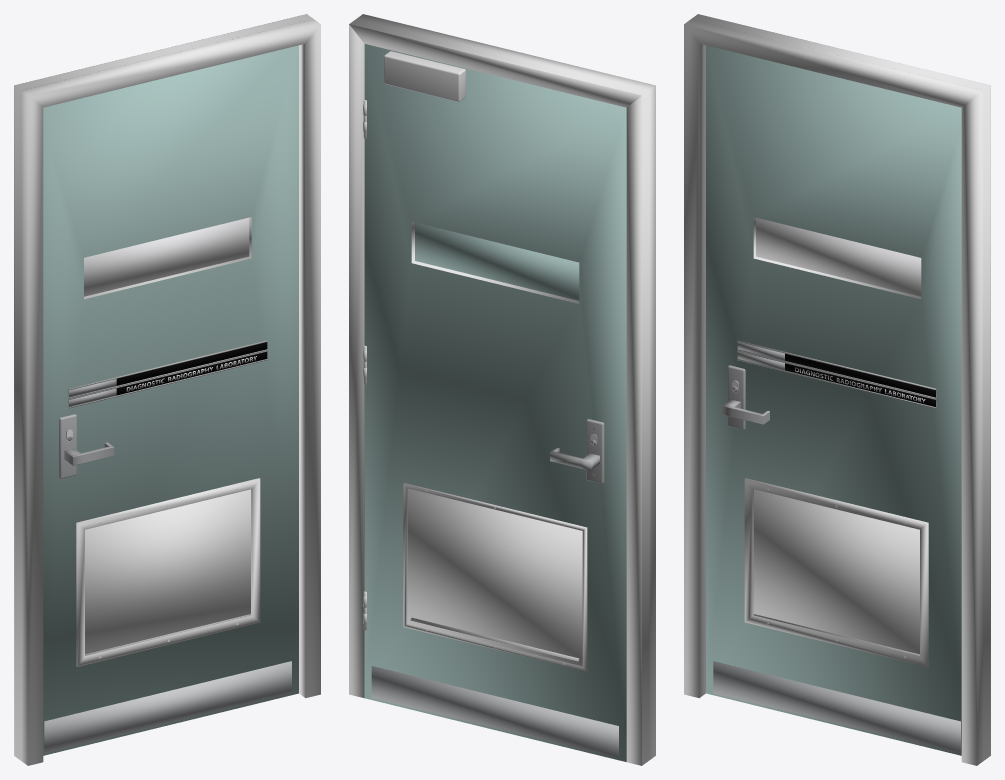
File: Door_1.fbx
3 renders of one model, left to right at view 1: azimuth 30°, elevation 25°; view 2: azimuth 150°, elevation 25°; view 3: azimuth 330°, elevation 25°, orthographic.
Visible parts, largest first — view 1: Door_1_2, Frame_7, Vent_back, Bottom_metal, Glass_2, Vent_Outside, Diagnostic_insert, Medical_insert, Name_Holder_1_top, Door_Knob_Holder_3, Name_Holder_2_bottom, Cube_7 (+1 smaller); view 2: Door_1_2, Frame_7, Vent_back, Bottom_metal, Glass_opaque, Vent_Outside, Top_box, Door_Knob_Holder_3, Cube_7, Vent_Flap_0, Door_Knob_Outside_2; view 3: Door_1_2, Frame_7, Vent_back, Bottom_metal, Glass_2, Vent_Outside, Diagnostic_insert, Medical_insert, Name_Holder_1_top, Door_Knob_Holder_3, Name_Holder_2_bottom, Cube_7 (+1 smaller).
Part boxes in pixels (<box>): Door_1_2: <box>43,45,298,755</box>; Frame_7: <box>14,14,320,765</box>; Vent_back: <box>85,489,250,654</box>; Bottom_metal: <box>44,661,291,753</box>; Glass_2: <box>84,217,249,296</box>; Vent_Outside: <box>76,478,260,666</box>; Diagnostic_insert: <box>116,352,267,395</box>; Medical_insert: <box>116,342,267,385</box>; Name_Holder_1_top: <box>68,340,267,398</box>; Door_Knob_Holder_3: <box>59,414,76,478</box>; Name_Holder_2_bottom: <box>68,350,267,408</box>; Cube_7: <box>84,217,251,299</box>; Door_1_2: <box>364,44,626,761</box>; Frame_7: <box>349,14,655,765</box>; Vent_back: <box>407,488,582,666</box>; Bottom_metal: <box>371,666,618,758</box>; Glass_opaque: <box>415,222,579,300</box>; Vent_Outside: <box>403,483,587,671</box>; Top_box: <box>384,51,465,101</box>; Door_Knob_Holder_3: <box>586,419,604,483</box>; Cube_7: <box>411,222,579,303</box>; Vent_Flap_0: <box>410,617,579,661</box>; Door_Knob_Outside_2: <box>550,447,599,470</box>; Door_1_2: <box>706,45,961,755</box>; Frame_7: <box>684,14,990,765</box>; Vent_back: <box>754,489,919,654</box>; Bottom_metal: <box>713,661,960,753</box>; Glass_2: <box>756,217,921,296</box>; Vent_Outside: <box>744,478,928,666</box>; Diagnostic_insert: <box>785,363,935,406</box>; Medical_insert: <box>785,353,935,397</box>; Name_Holder_1_top: <box>737,340,936,398</box>; Door_Knob_Holder_3: <box>728,365,745,429</box>; Name_Holder_2_bottom: <box>737,350,936,408</box>; Cube_7: <box>753,217,921,299</box>.
Bounding box in the file's own units: 0.96 × 2.1 × 0.1557.
